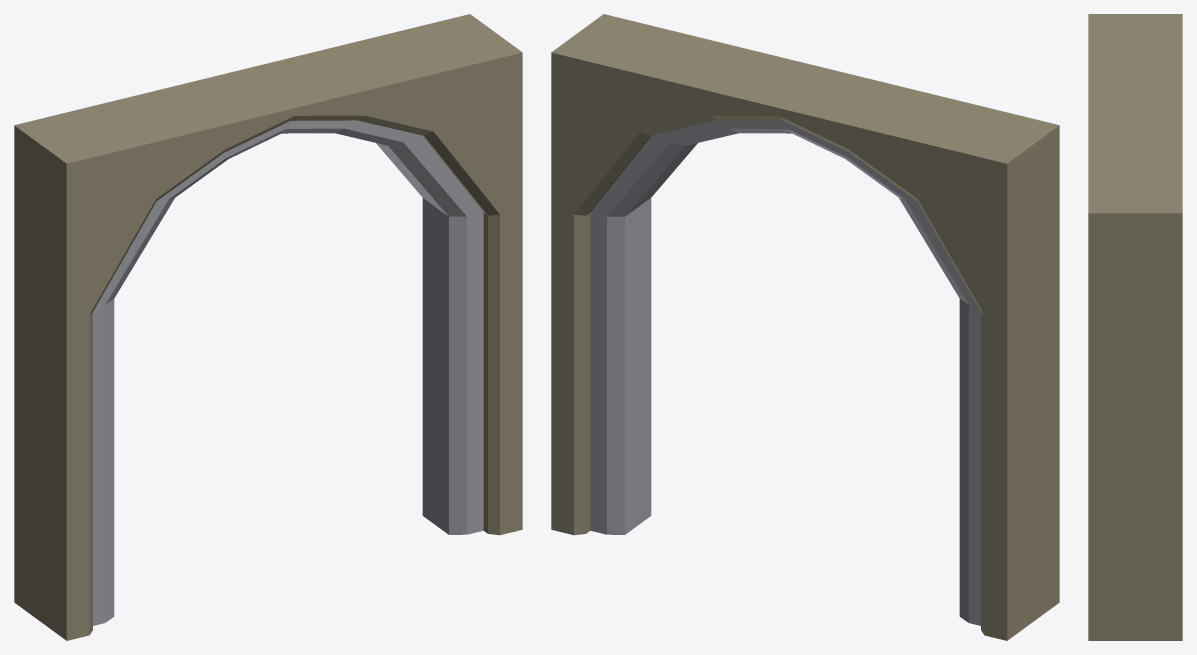
File: fantasy_arch_1.fbx
3 renders of one model, left to right at view 1: azimuth 30°, elevation 25°; view 2: azimuth 150°, elevation 25°; view 3: azimuth 270°, elevation 25°, orthographic. The views are drawn at different scales.
Visible parts, largest first — view 1: Cube.016; view 2: Cube.016; view 3: Cube.016.
Boxes of the visible parts, box(x1,y1,x2,y2) form: Cube.016: box(14, 14, 522, 640); Cube.016: box(551, 14, 1059, 640); Cube.016: box(1088, 14, 1182, 640).
Size of the model in its own units: 300 by 300 by 60.
